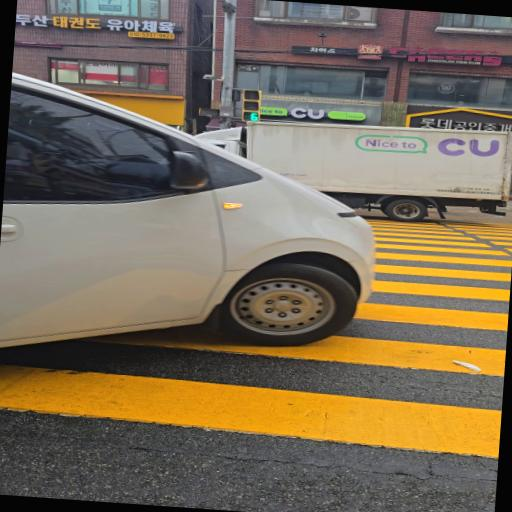yellow-crosswalk: (0, 181, 512, 468)
